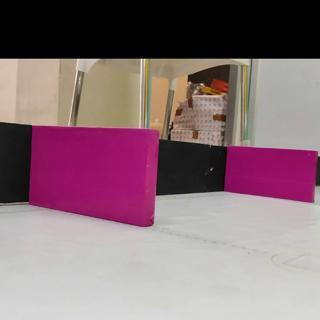xparking: (35, 131, 157, 220), (235, 150, 315, 197)
